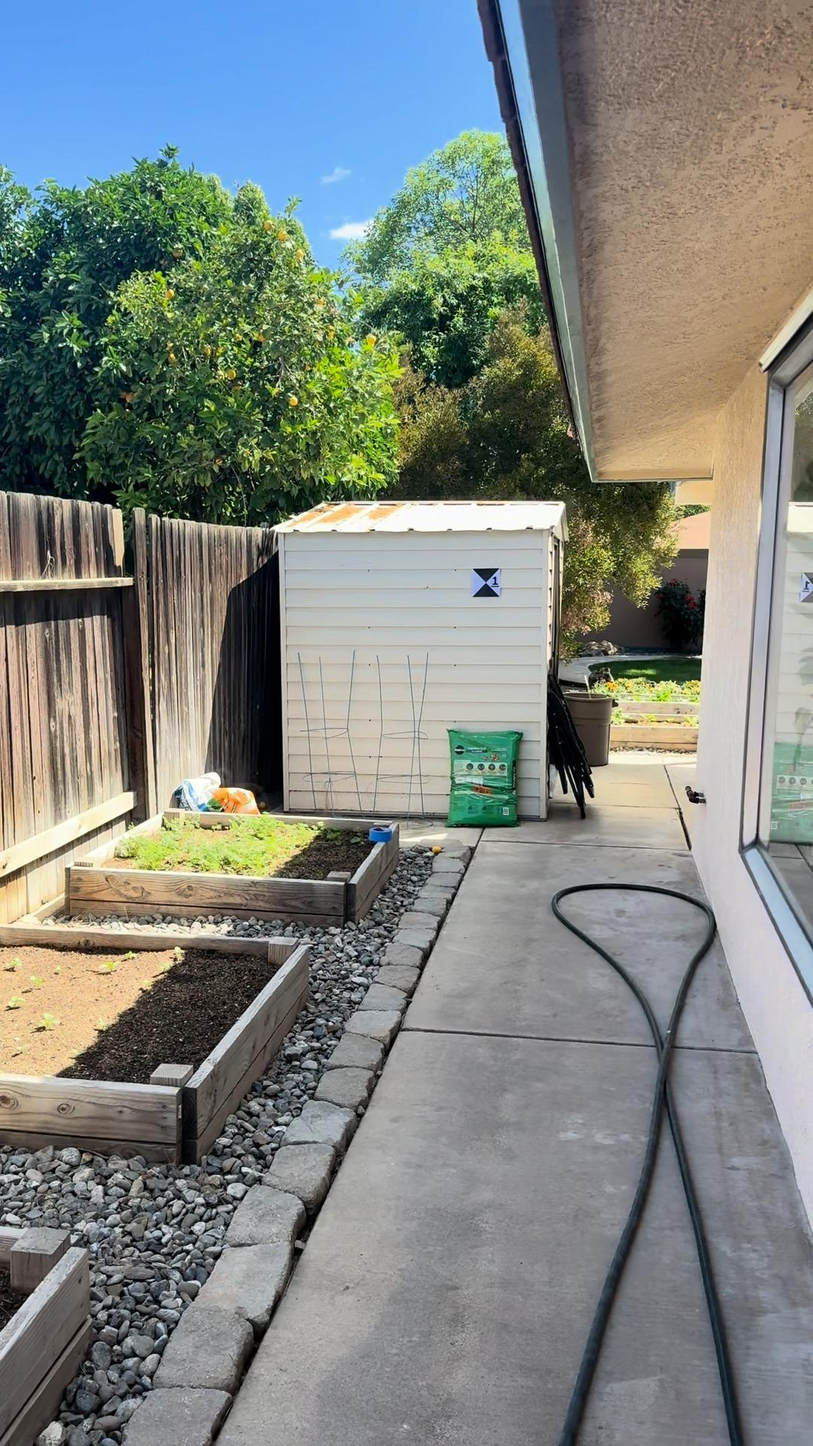target1: (468, 566, 503, 597)
